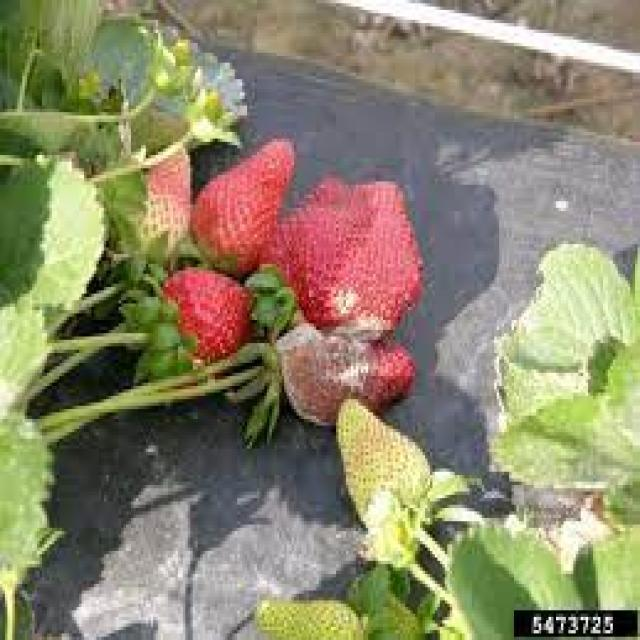Moho gris: (284, 196, 429, 347), (273, 324, 418, 440)
